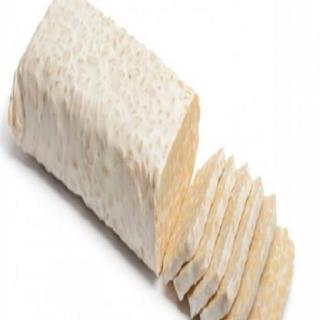Tempe: (7, 1, 297, 320)
